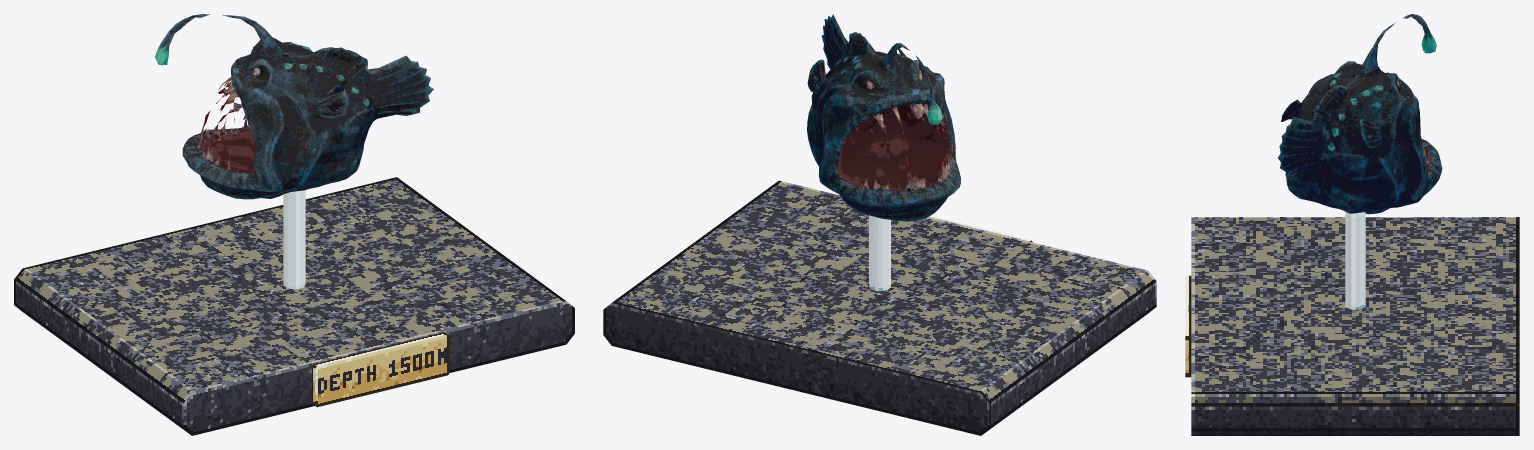
File: angler.glb
3 views of the same model, side by side, from view 1: azimuth 30°, elevation 25°; view 2: azimuth 150°, elevation 25°; view 3: azimuth 270°, elevation 25° (orthographic). The views are drawn at different scales.
Parts seen in each view (by area): view 1: base, model_fish, plate, rod; view 2: base, model_fish, rod; view 3: base, model_fish, rod, plate.
Part boxes in pixels (x1,y1,x2,y2): base: (14, 177, 574, 435); model_fish: (155, 14, 433, 199); plate: (312, 332, 449, 407); rod: (283, 190, 305, 289); base: (603, 180, 1156, 435); model_fish: (807, 14, 960, 221); rod: (869, 215, 890, 291); base: (1191, 217, 1519, 435); model_fish: (1278, 14, 1442, 214); rod: (1345, 212, 1365, 309); plate: (1185, 275, 1191, 377).
Size of the model in its own units: 32 by 24.29 by 24.45.
Materials: 2 (2 with a texture image).
